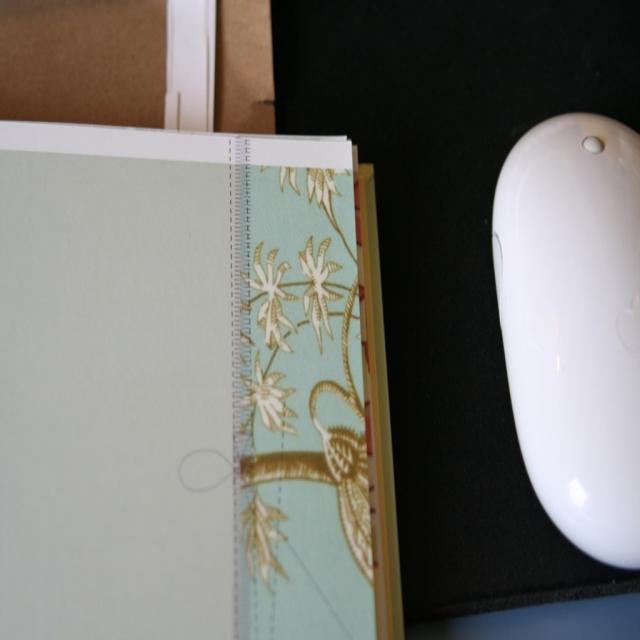Computer-mouse: (497, 108, 639, 570)
